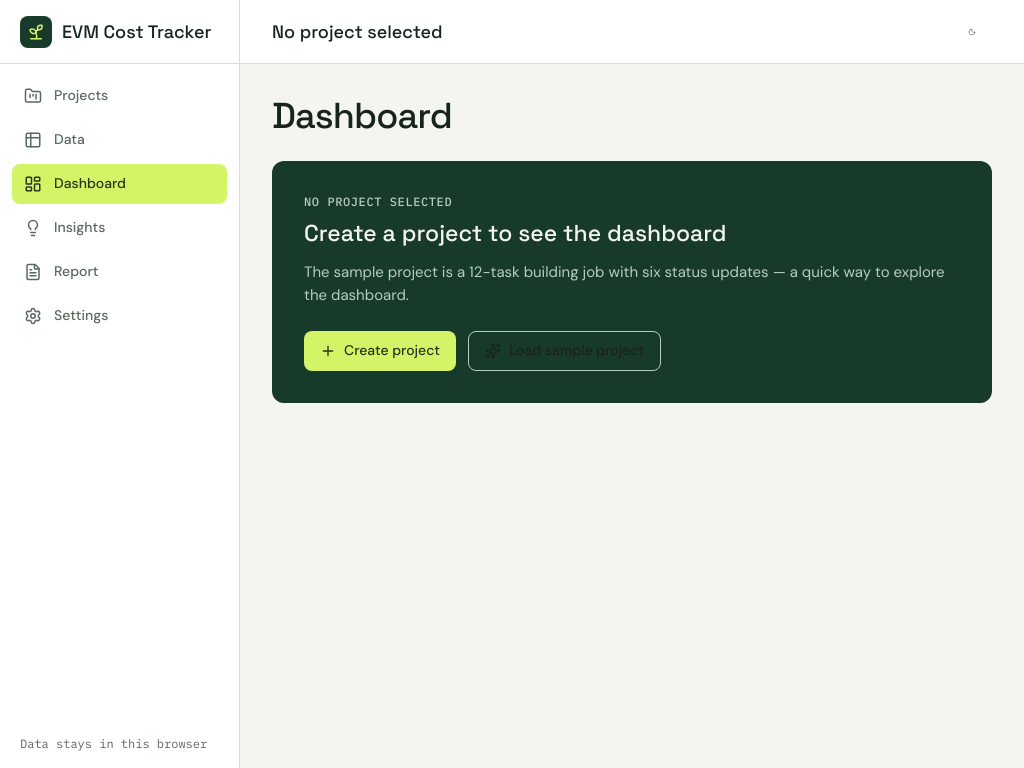
Test case: Dashboard (FR-25, FR-27) › CT-DASH-07 "Create project" opens the new-project form on Projects
This screenshot has width=1024, height=768.
Click the button "Create project" at (380, 351), box [304,331,456,371]
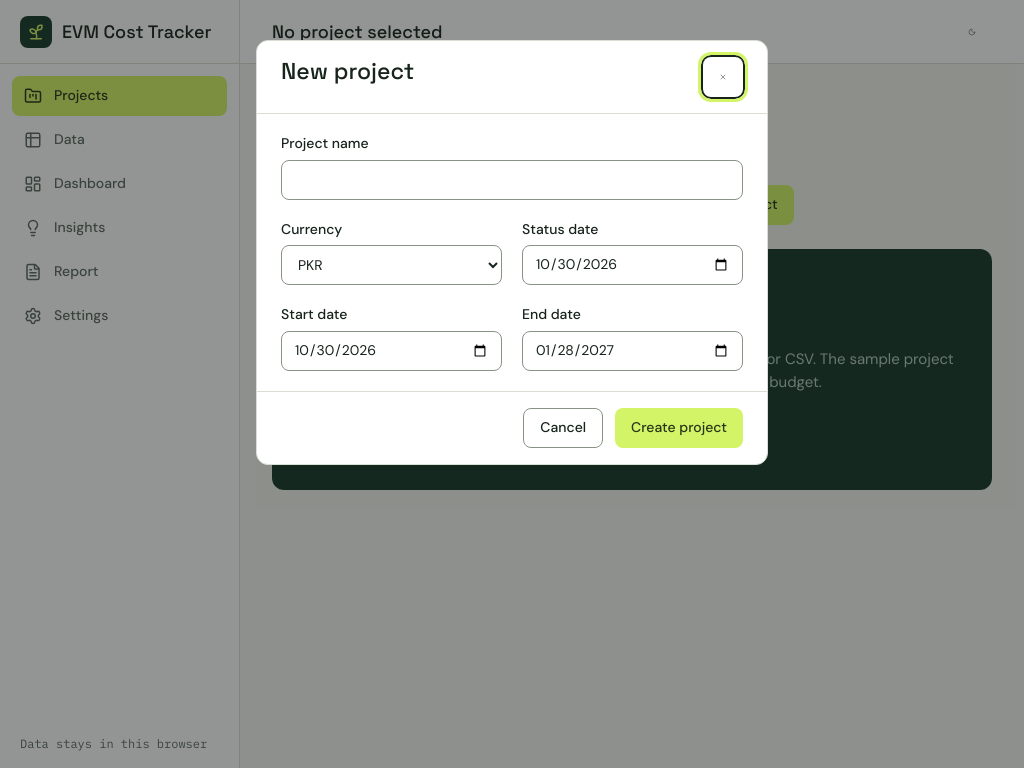
Expected: the dialog "New project" is shown, [256,40,768,465]
